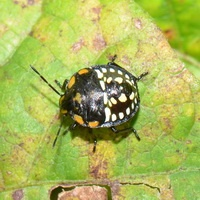insect: (30, 55, 147, 151)
